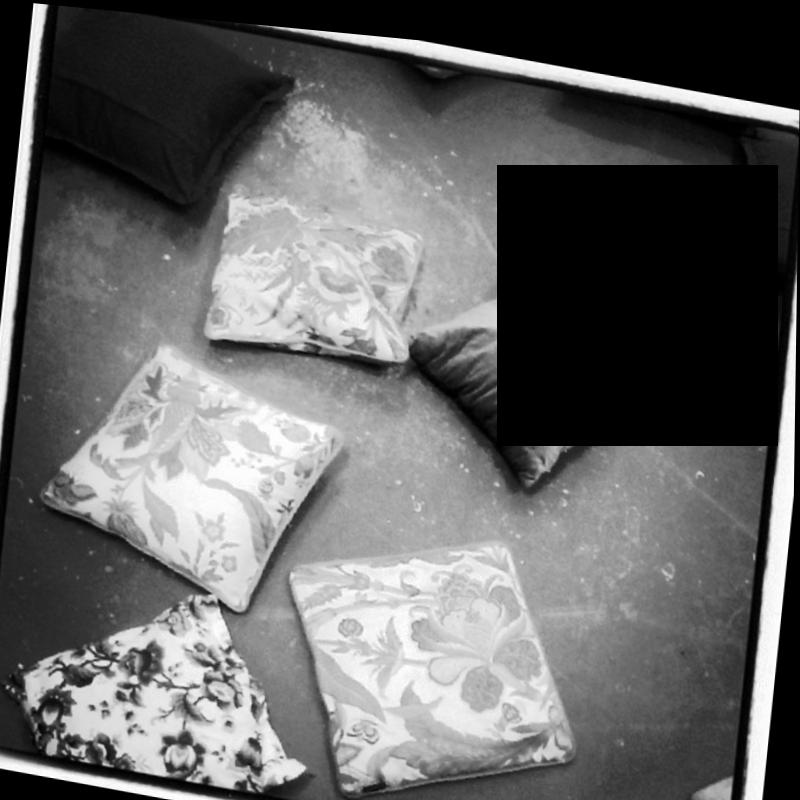pillow: (28, 319, 351, 632), (266, 500, 592, 800), (0, 553, 319, 797), (394, 228, 652, 502), (34, 3, 298, 222), (209, 185, 419, 371), (722, 101, 799, 259)
